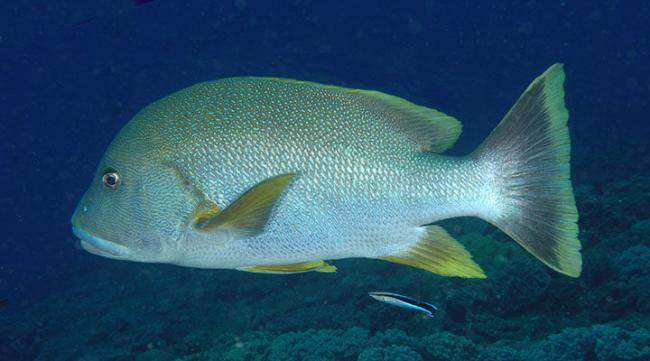fish: (70, 61, 583, 280)
